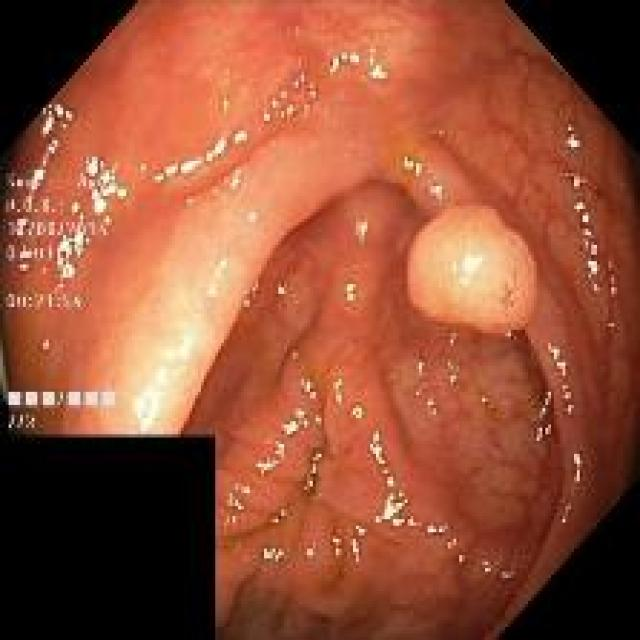Polyps: (411, 203, 537, 336)
